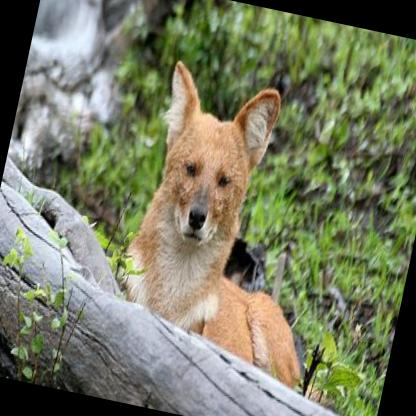dhole: (108, 57, 356, 384)
